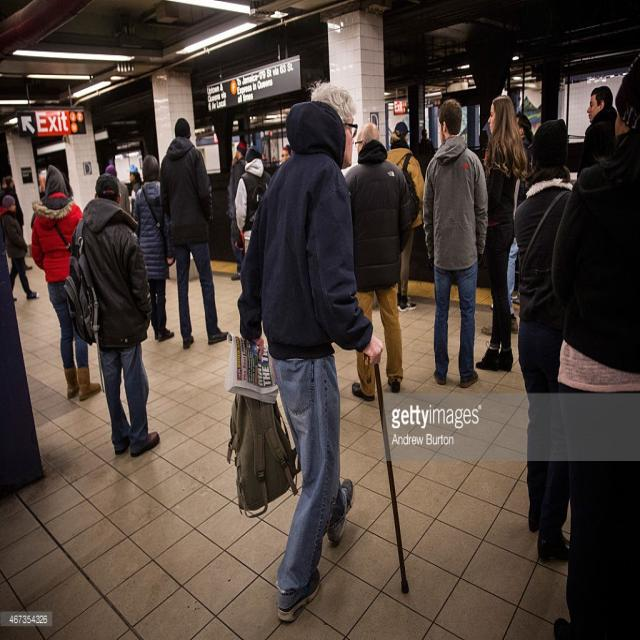body: (235, 81, 383, 624), (550, 47, 640, 639), (512, 116, 576, 567), (63, 171, 162, 458), (422, 97, 489, 390), (343, 122, 413, 400), (158, 114, 232, 353), (30, 164, 102, 400), (474, 94, 530, 374), (384, 120, 426, 314), (132, 154, 176, 338), (0, 195, 41, 303), (576, 84, 618, 181), (236, 146, 272, 256), (227, 141, 248, 282), (513, 112, 533, 202), (104, 164, 130, 216), (3, 175, 25, 227), (125, 164, 144, 218), (263, 137, 291, 171), (33, 163, 51, 202), (416, 128, 436, 160), (513, 276, 524, 306), (486, 297, 496, 315), (0, 176, 8, 196)
